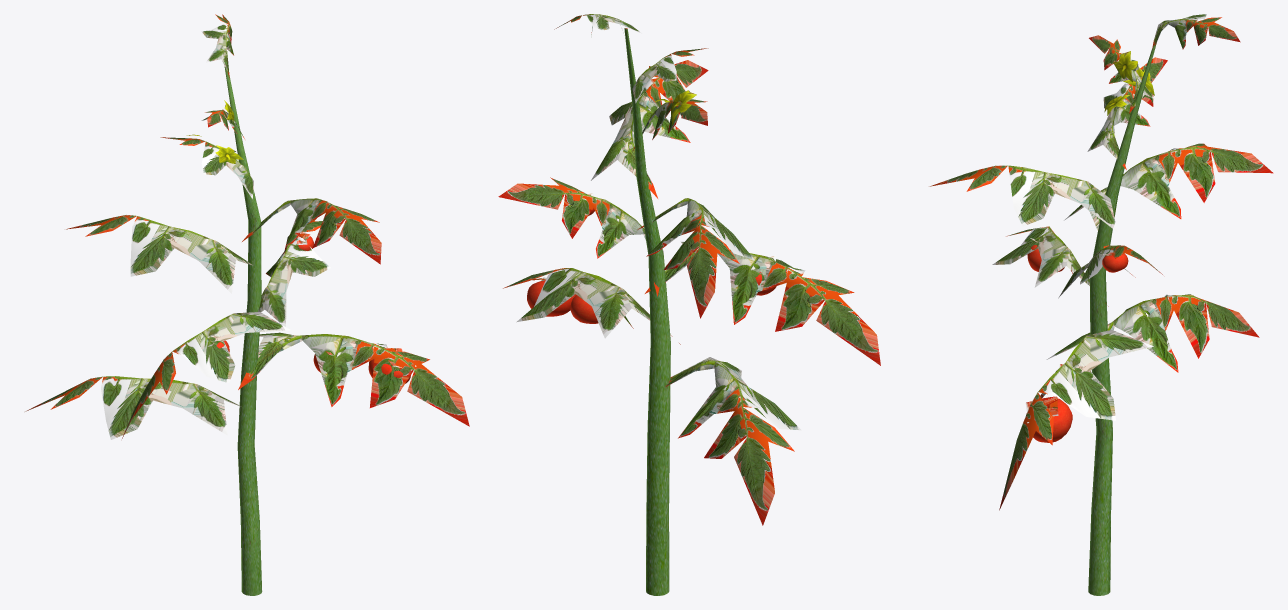
The model's file is tomato.glb.
3 views of the same model, side by side, from view 1: azimuth 30°, elevation 25°; view 2: azimuth 150°, elevation 25°; view 3: azimuth 270°, elevation 25° (orthographic). The views are drawn at different scales.
Parts seen in each view (by area): view 1: LOD0_Plant LOD_0; view 2: LOD0_Plant LOD_0; view 3: LOD0_Plant LOD_0.
Boxes of the visible parts, bbox=[...] form: LOD0_Plant LOD_0: bbox=[25, 14, 469, 595]; LOD0_Plant LOD_0: bbox=[498, 14, 880, 595]; LOD0_Plant LOD_0: bbox=[929, 14, 1273, 595].
Bounding box in the file's own units: 208 × 312 × 176.
Materials: 1 (1 with a texture image).
